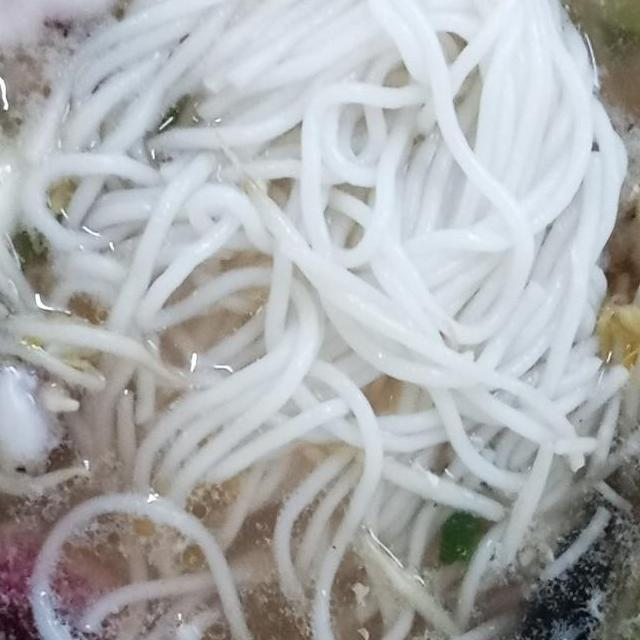bun: (13, 0, 640, 640)
muc: (0, 501, 230, 640), (0, 0, 218, 69)
